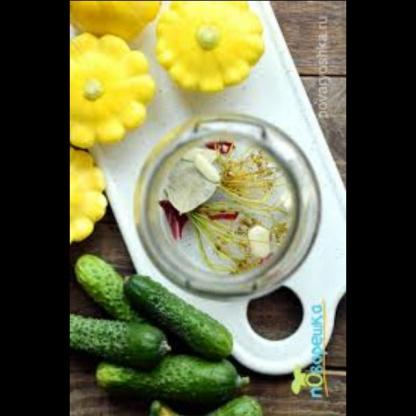cucumber: (120, 273, 233, 359), (93, 353, 250, 404), (70, 252, 146, 325), (69, 312, 172, 359), (146, 390, 270, 416)
garlic: (186, 150, 223, 185)
squash-patisson: (143, 0, 263, 96), (69, 30, 158, 152), (69, 0, 169, 45), (69, 145, 113, 238)
